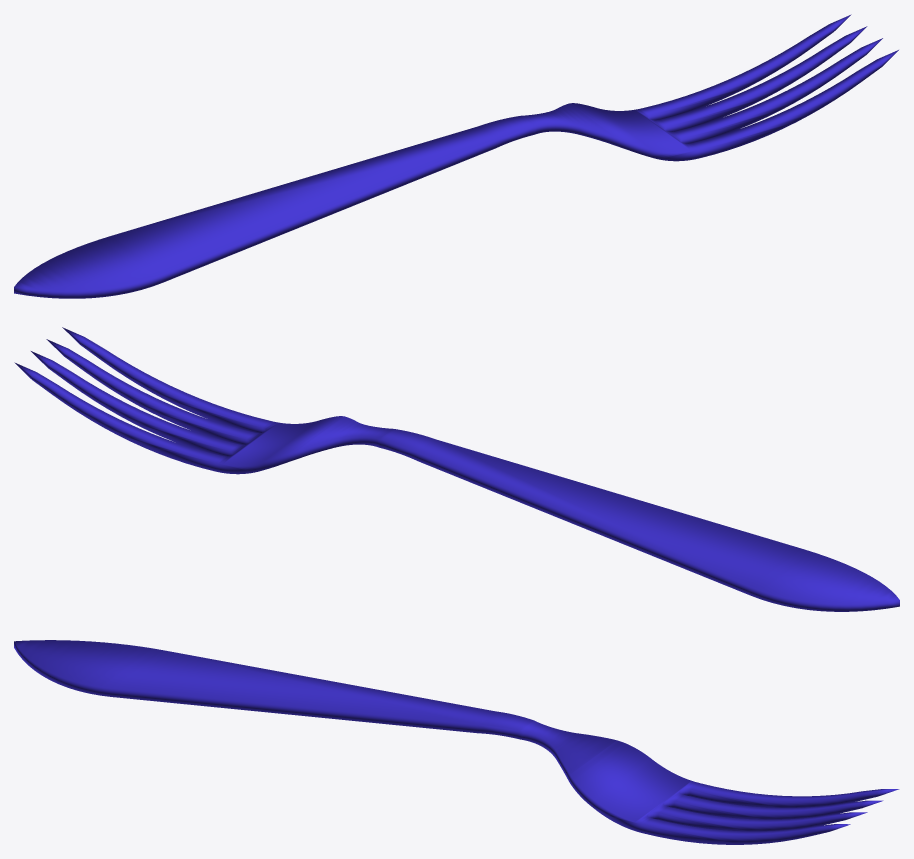
File: fork.dae
The picture shows the model from 3 angles, top to bottom: view 1: azimuth 30°, elevation 25°; view 2: azimuth 150°, elevation 25°; view 3: azimuth 330°, elevation 25°; orthographic projection.
Parts seen in each view (by area): view 1: group_0; view 2: group_0; view 3: group_0.
Part boxes in pixels (x1,y1,x2,y2): group_0: (14, 14, 898, 298); group_0: (14, 327, 899, 611); group_0: (14, 640, 899, 844).
Bounding box in the file's own units: 0.1654 × 0.0189 × 0.0102.
